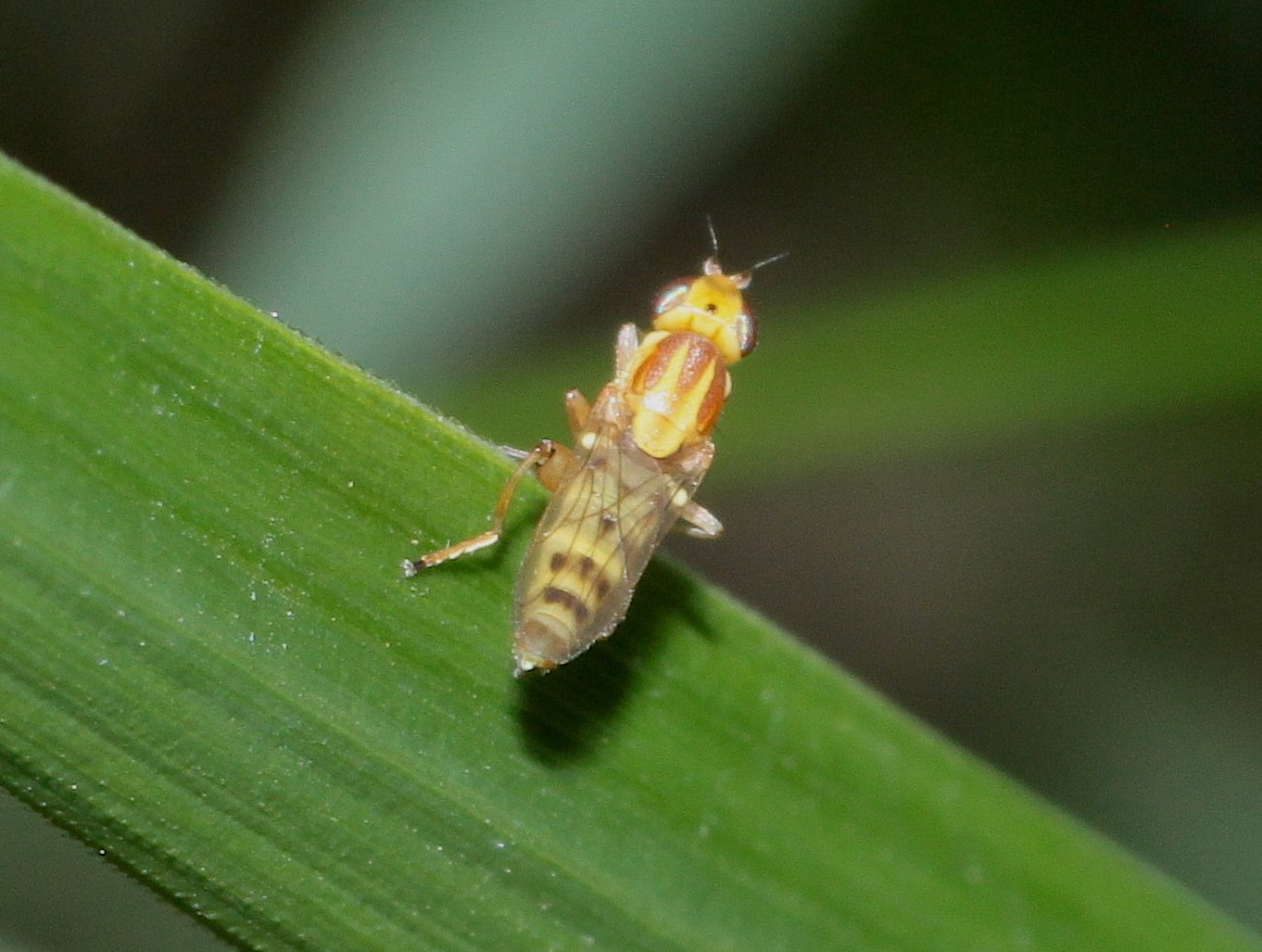Chloropidae: (410, 207, 797, 696)
